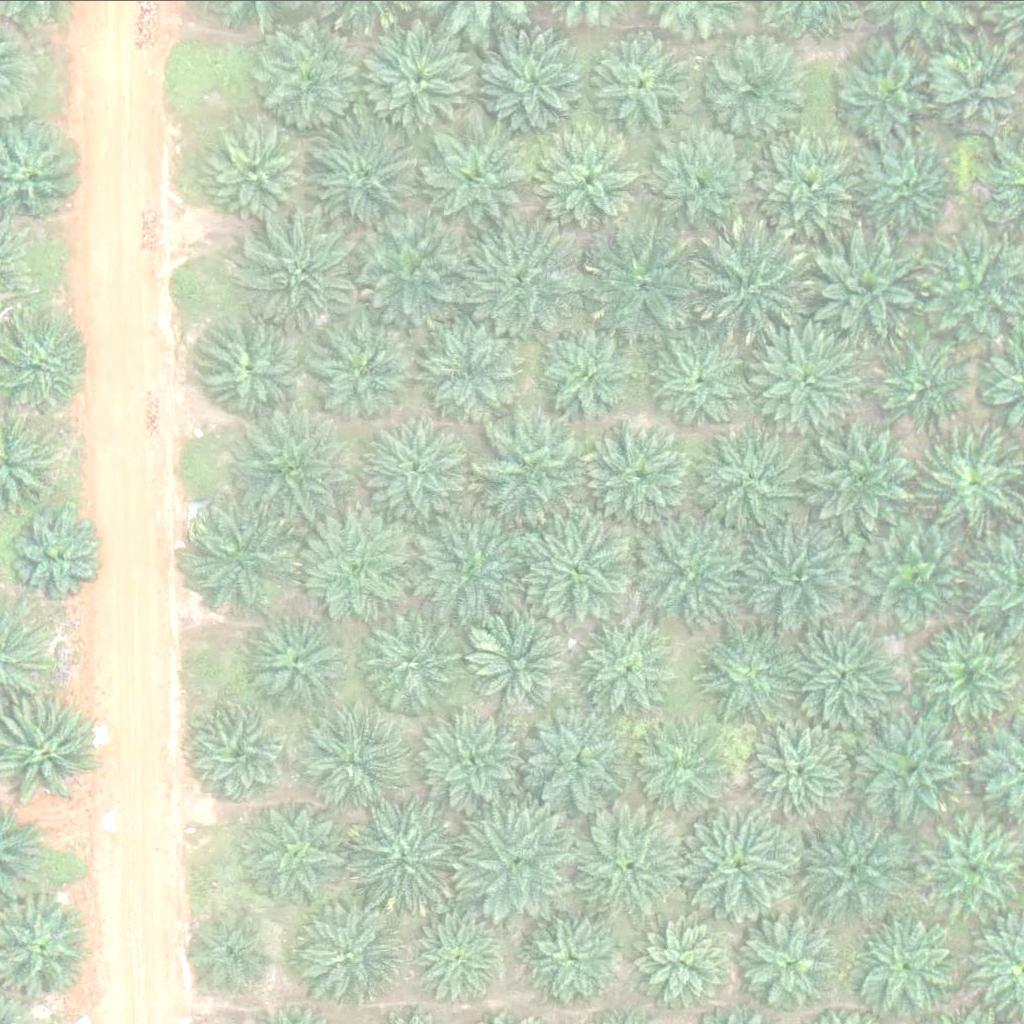Kelapa_Sawit: (423, 115, 537, 228), (816, 228, 930, 341), (584, 422, 698, 535), (253, 22, 366, 135), (357, 21, 470, 134), (589, 28, 702, 141), (697, 33, 810, 146), (831, 36, 944, 149), (755, 135, 868, 248), (312, 124, 425, 237), (358, 210, 471, 323), (462, 230, 575, 343), (305, 312, 418, 425), (241, 419, 354, 532), (362, 418, 475, 531), (702, 425, 815, 538), (190, 505, 303, 618), (307, 512, 420, 625), (522, 508, 635, 621), (624, 515, 737, 628), (706, 620, 819, 733), (467, 805, 580, 918), (574, 810, 687, 923), (678, 805, 791, 918), (804, 817, 917, 930), (294, 904, 407, 1017), (531, 118, 645, 230), (195, 315, 309, 427), (809, 423, 923, 535), (733, 518, 847, 630), (239, 800, 353, 912), (482, 28, 595, 140), (643, 125, 756, 237), (246, 217, 359, 329), (586, 224, 699, 336), (699, 223, 812, 335), (752, 322, 865, 434), (474, 404, 587, 516), (418, 511, 531, 623), (469, 600, 582, 712), (782, 615, 895, 727), (859, 712, 972, 824), (518, 701, 631, 813), (354, 801, 467, 913), (864, 134, 965, 234), (206, 127, 307, 227), (877, 332, 978, 432), (644, 332, 745, 432), (428, 319, 529, 419), (242, 609, 343, 709), (371, 610, 472, 710), (580, 617, 681, 717), (632, 718, 733, 818), (419, 708, 520, 808), (858, 912, 959, 1012), (734, 912, 835, 1012), (629, 912, 730, 1012), (524, 903, 625, 1003), (543, 325, 643, 425), (860, 531, 960, 631), (751, 718, 851, 818), (306, 715, 406, 815), (189, 704, 289, 804), (185, 907, 273, 995), (413, 914, 501, 1002), (20, 513, 108, 600)
